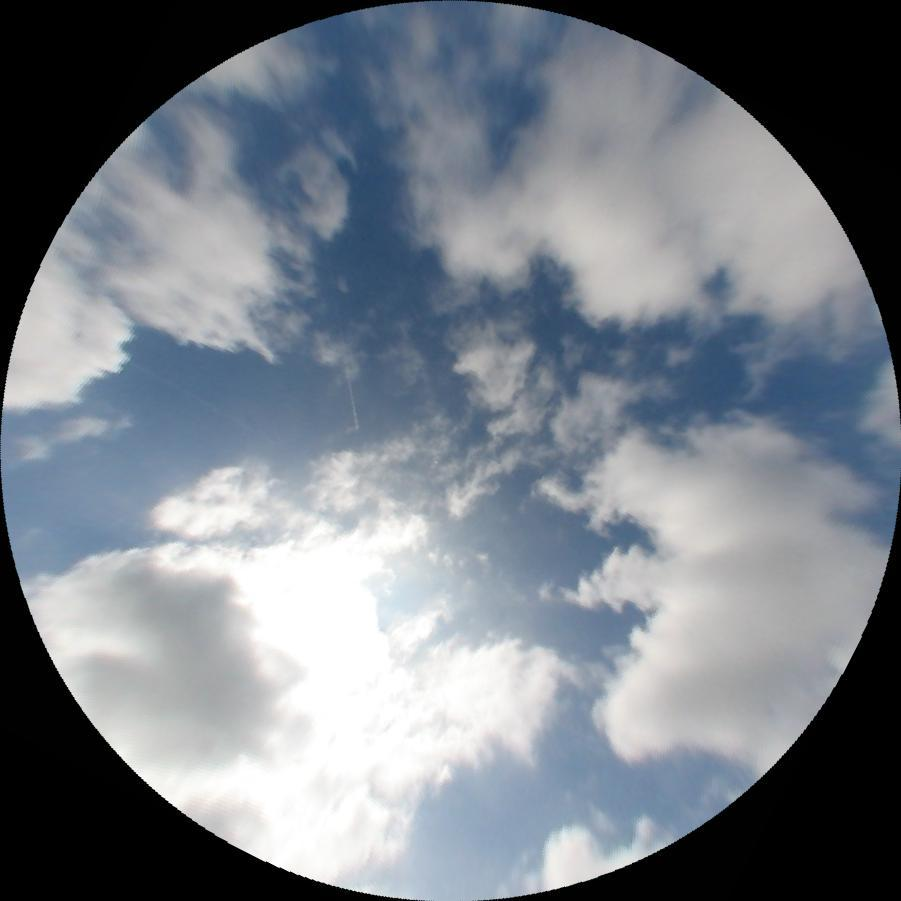contrail young: (324, 240, 359, 430)
parasite: (126, 357, 220, 413)
sun: (240, 532, 393, 673)
